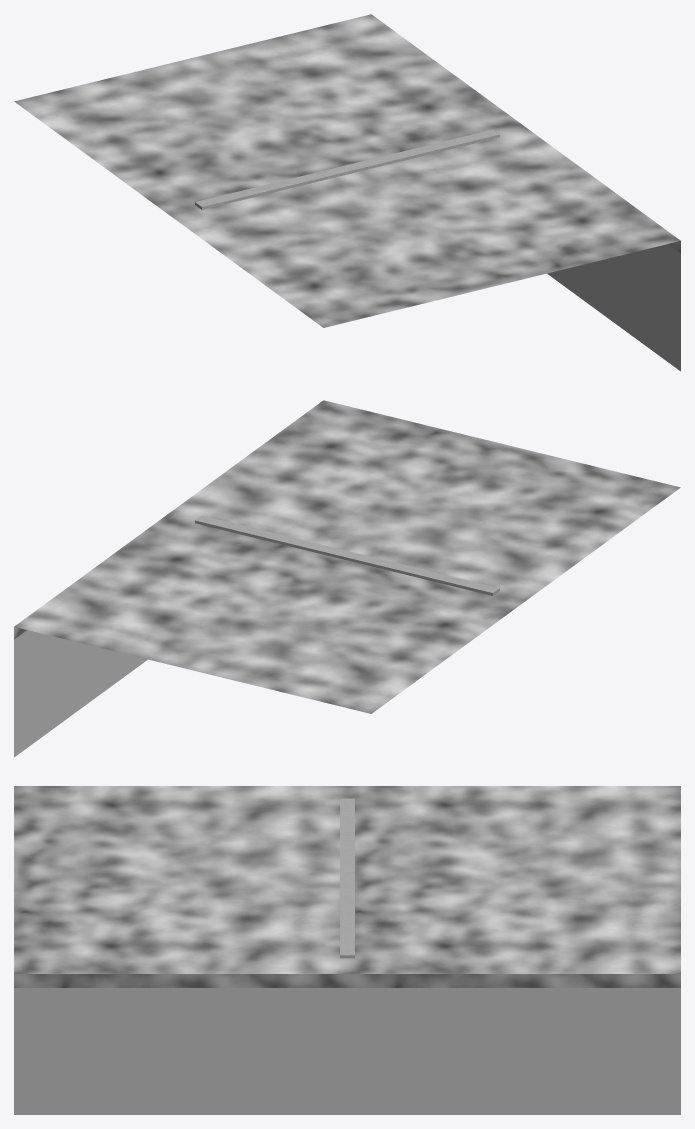
Rendered from RoadFirst.fbx.
The picture shows the model from 3 angles, top to bottom: view 1: azimuth 30°, elevation 25°; view 2: azimuth 150°, elevation 25°; view 3: azimuth 270°, elevation 25°; orthographic projection. The views are drawn at different scales.
Visible parts, largest first — view 1: Plane; view 2: Plane; view 3: Plane.
Part boxes in pixels (<box>): Plane: <box>14,14,680,371</box>; Plane: <box>14,400,680,757</box>; Plane: <box>14,786,680,1114</box>.
Size of the model in its own units: 400 by 143 by 600.
